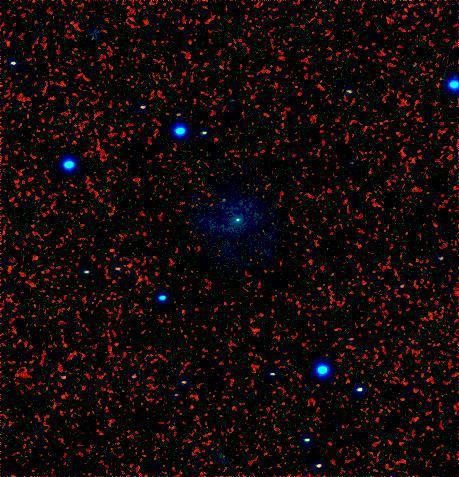star: (209, 186, 239, 216)
